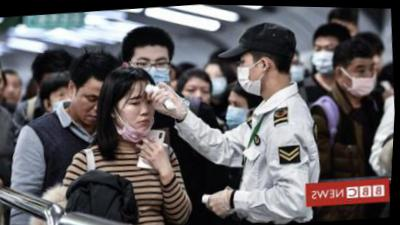NONE: (80, 85, 118, 127), (183, 81, 216, 114), (54, 88, 83, 117), (1, 78, 25, 107), (1, 74, 11, 109)
OK: (132, 51, 176, 93), (236, 51, 267, 96), (226, 93, 255, 132), (312, 38, 342, 73), (204, 68, 231, 97), (290, 54, 308, 82)
WRONG: (118, 87, 161, 137), (346, 59, 380, 97)
